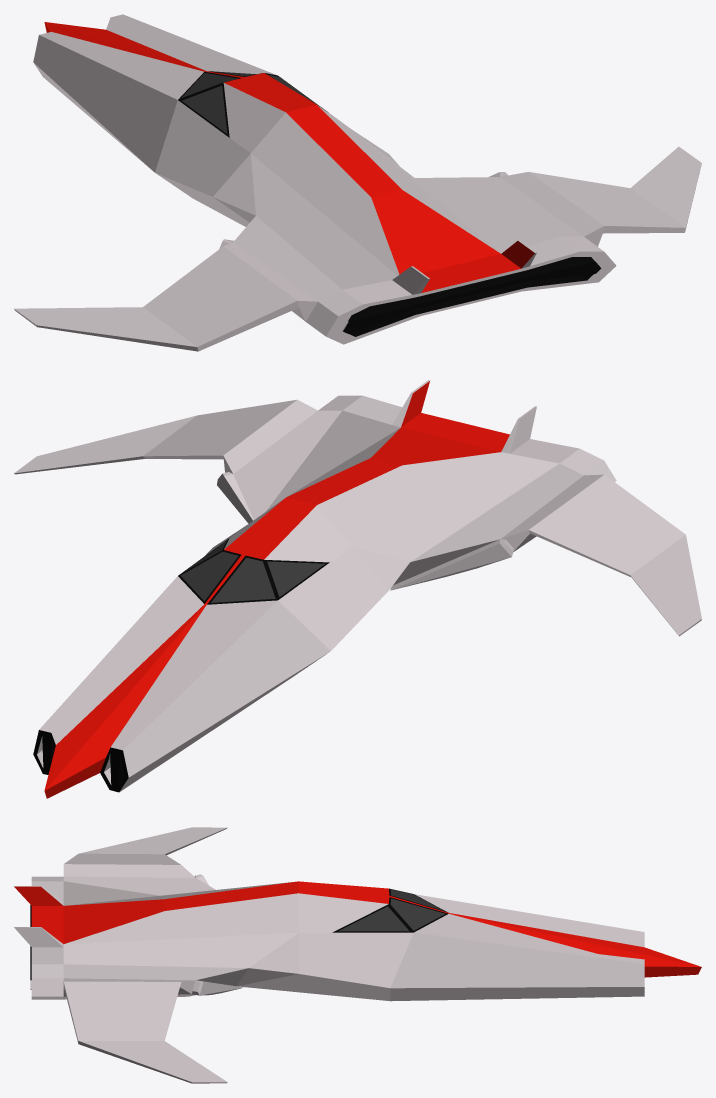
File: ship.glb
3 renders of one model, top to bottom at view 1: azimuth 30°, elevation 25°; view 2: azimuth 150°, elevation 25°; view 3: azimuth 270°, elevation 25°, orthographic. The views are drawn at different scales.
Visible parts, largest first — view 1: Cube; view 2: Cube; view 3: Cube.
Part boxes in pixels (x1,y1,x2,y2): Cube: (14, 14, 701, 351); Cube: (14, 380, 701, 798); Cube: (14, 827, 701, 1083).
Bounding box in the file's own units: 194 × 34.06 × 222.
